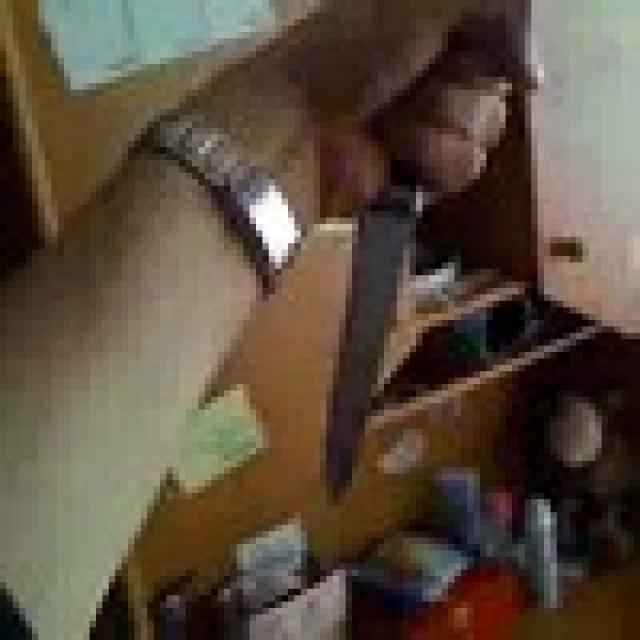knife: (275, 0, 570, 525)
